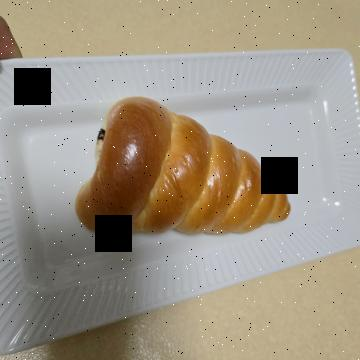cream horn: (85, 70, 267, 307)
